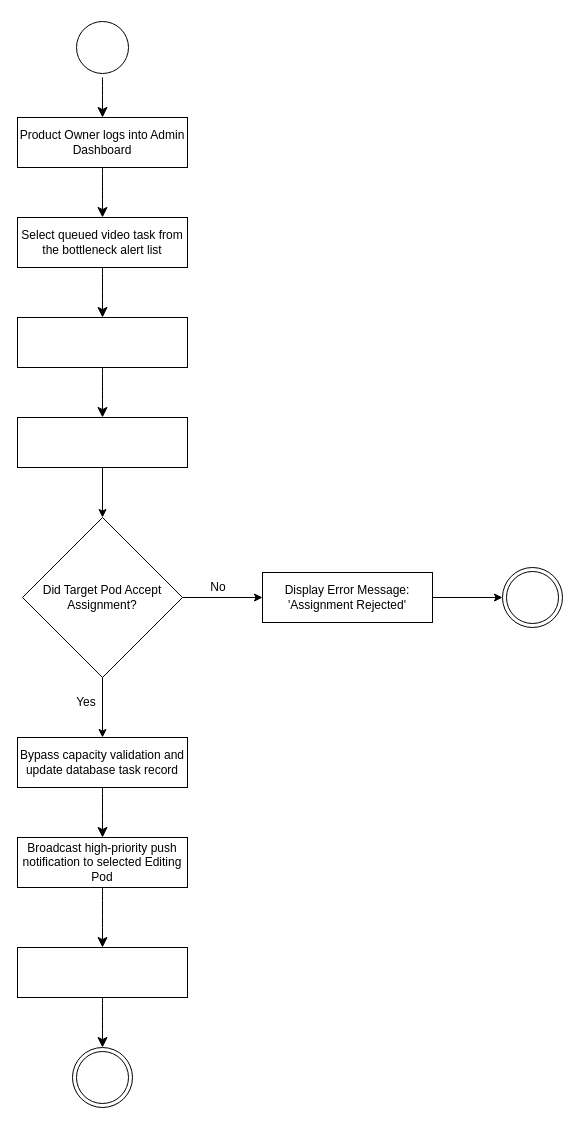
Image size: 580x1125. Some labels were removed from this diagram. The shapes that lost their labels are listed below. From the top down, each one's centre as x and y in pixels, then its label:
At point (102, 342): "Select target alternative Editing Pod".
At point (102, 442): "Click 'Force Reassign' button".
At point (102, 972): "Update Pod Workload Dashboard in real-time".
